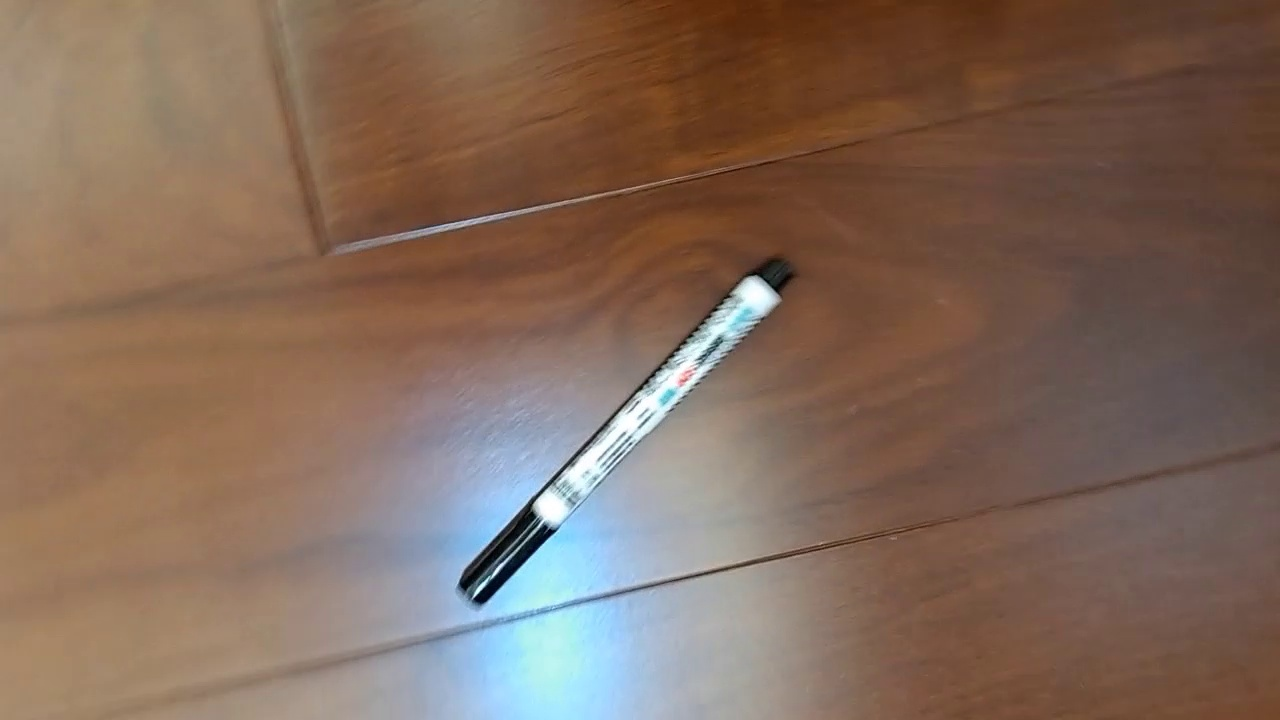pen: (455, 253, 797, 612)
